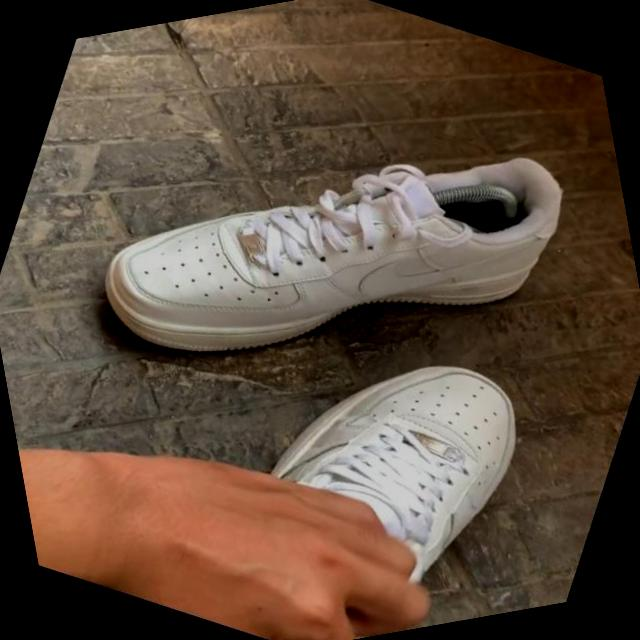nike_fake_airforce: (37, 0, 614, 518), (160, 281, 572, 640)
